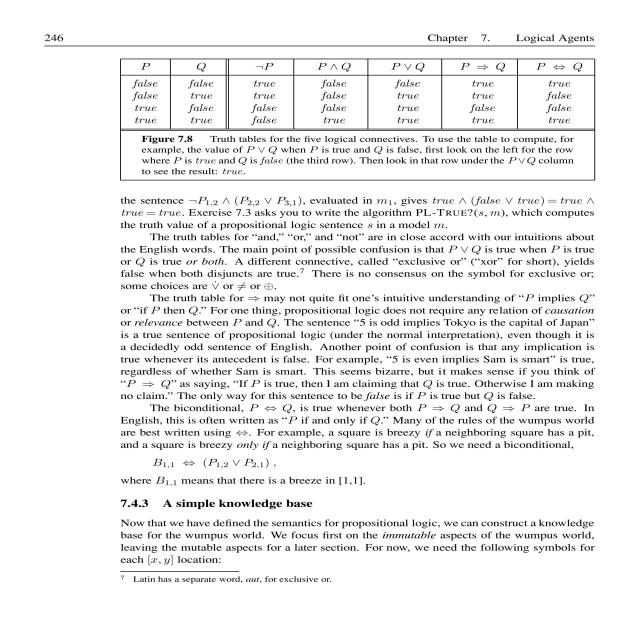diagram: (73, 49, 640, 180)
